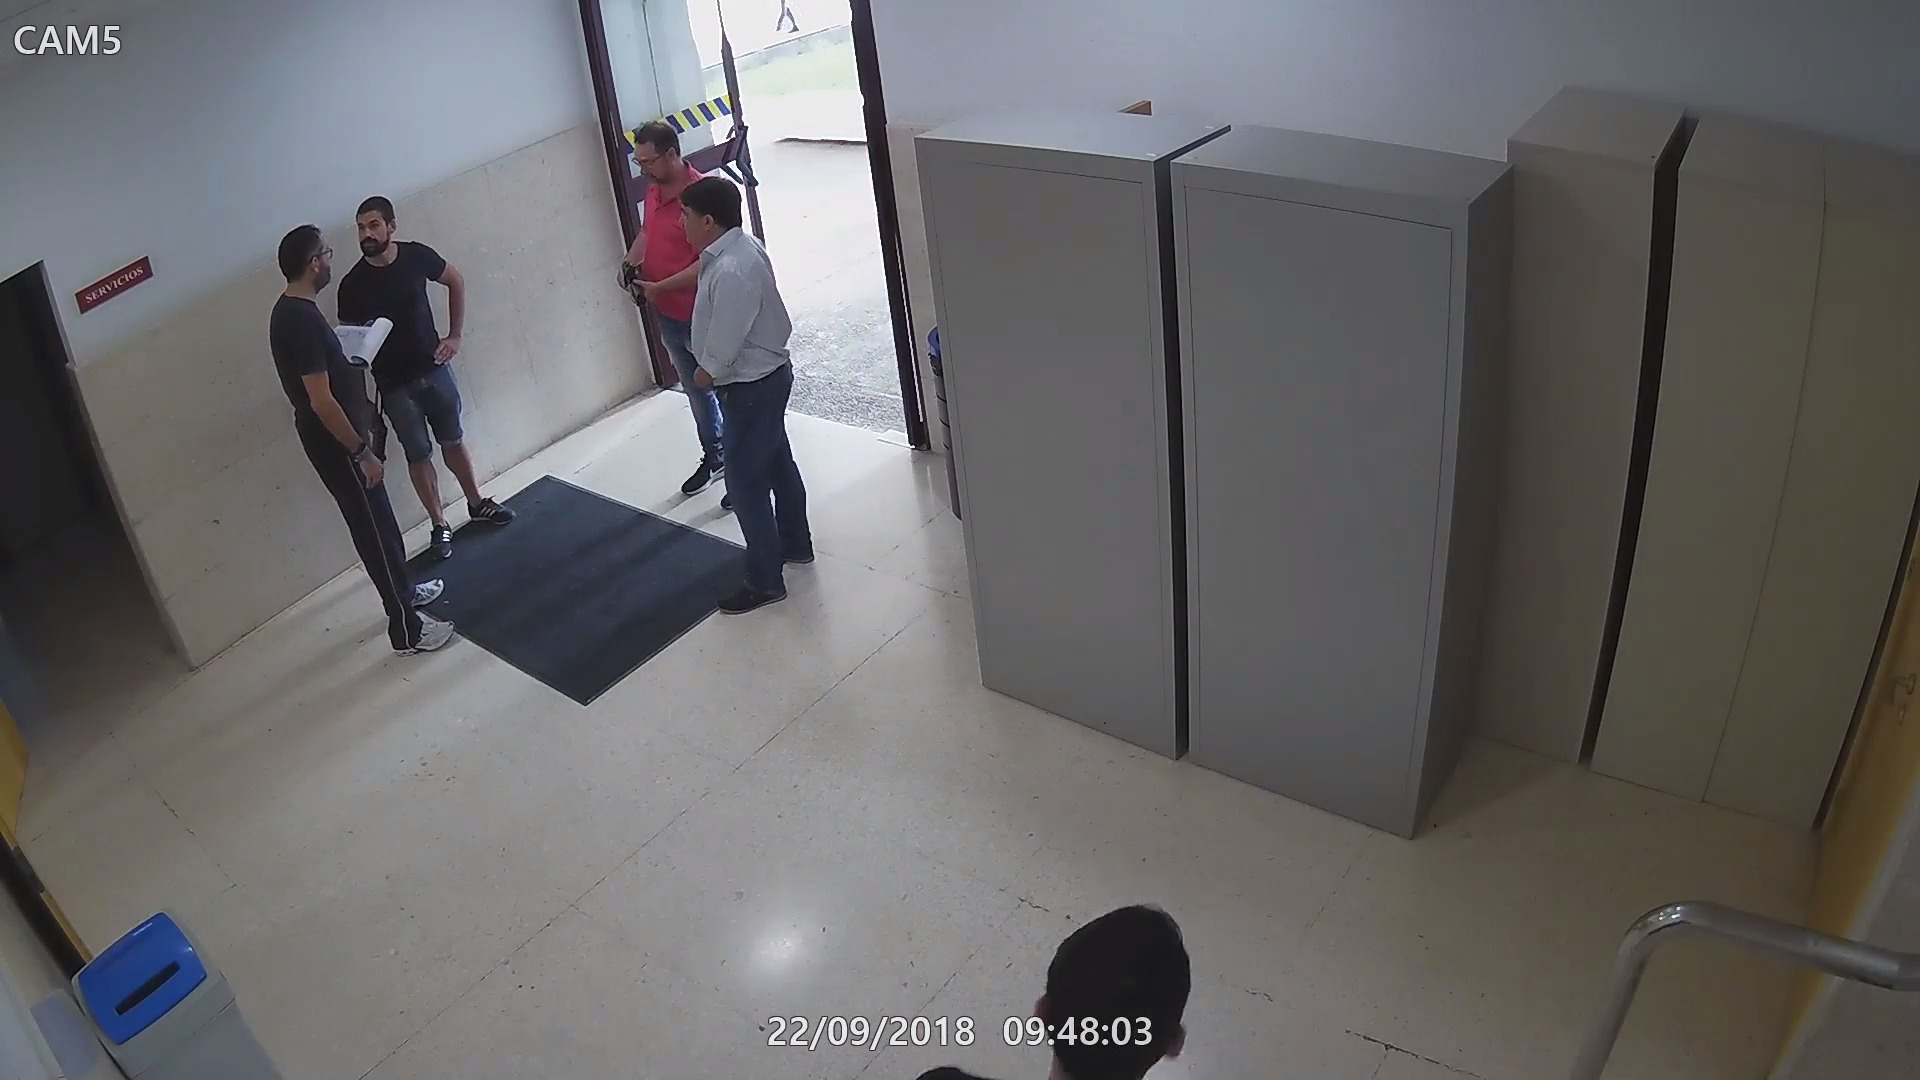Short_rifle: (617, 252, 655, 320), (363, 376, 390, 467)
